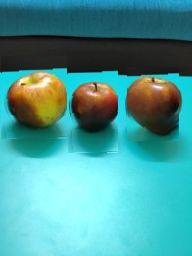Apple Fresh: (68, 71, 118, 154)
Apple Semifresh: (127, 67, 179, 141)
Apple Semirotten: (1, 57, 67, 140)
